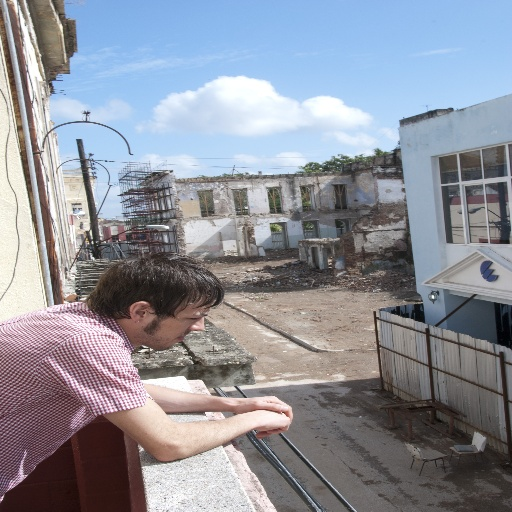hand: (237, 407, 294, 441), (234, 395, 291, 419)
